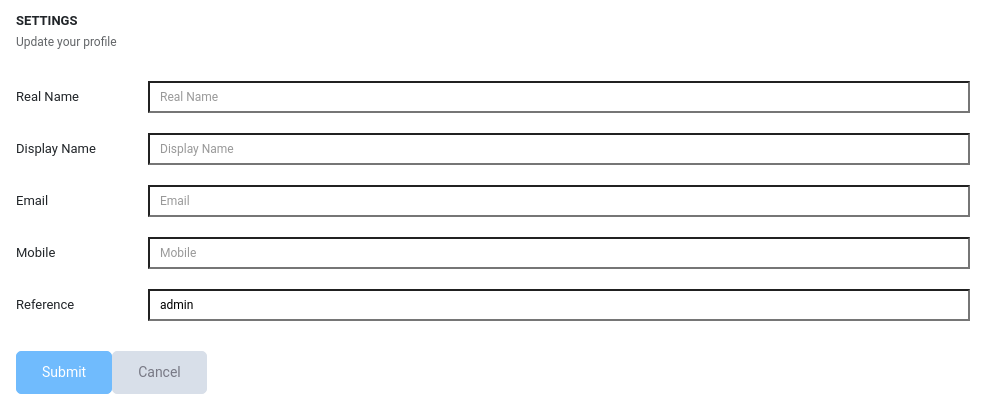
Scenario: setting › should show an minLength error when display name is too short
In the field with placeholder "Display Name": (559, 149) [148,133,970,165], type "a"
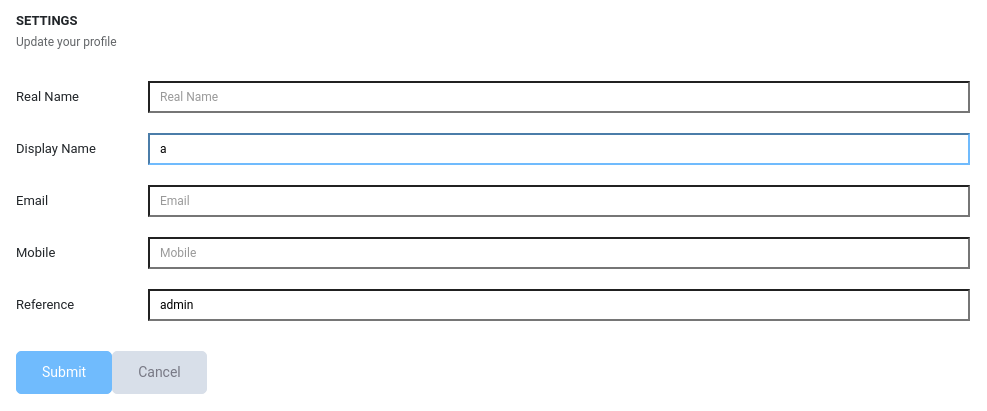
Click the button "Submit": (64, 372) [16,351,112,394]
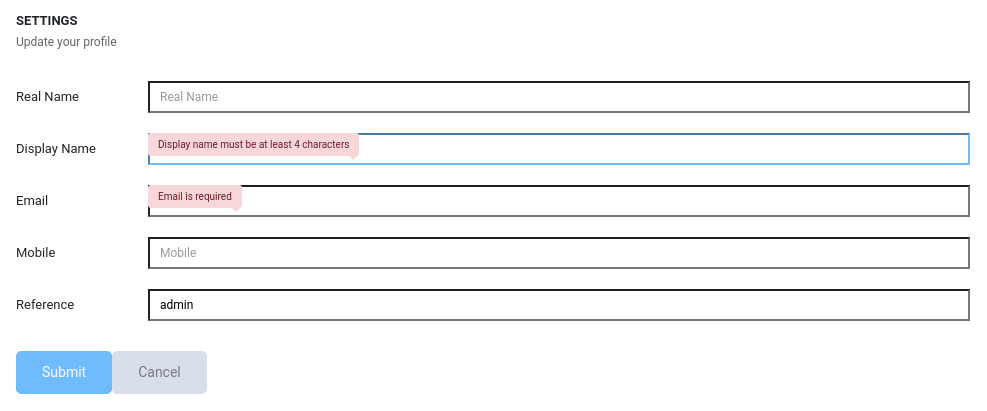
expect the text "Display name must be at least 4 characters" is shown: met, box [148,133,360,156]
